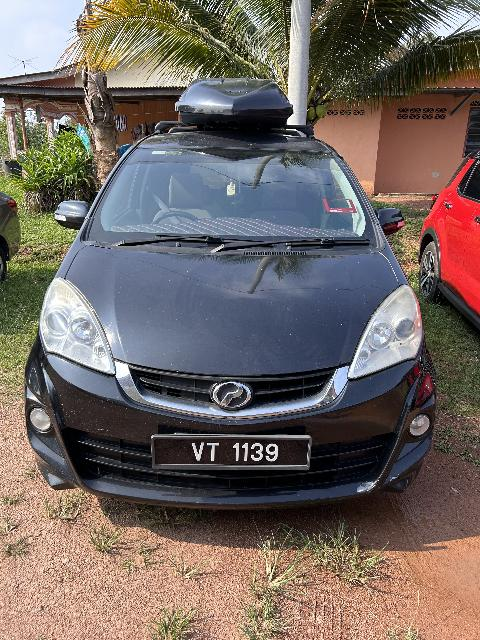License_Plate: (149, 434, 313, 473)
car: (18, 68, 443, 517)
